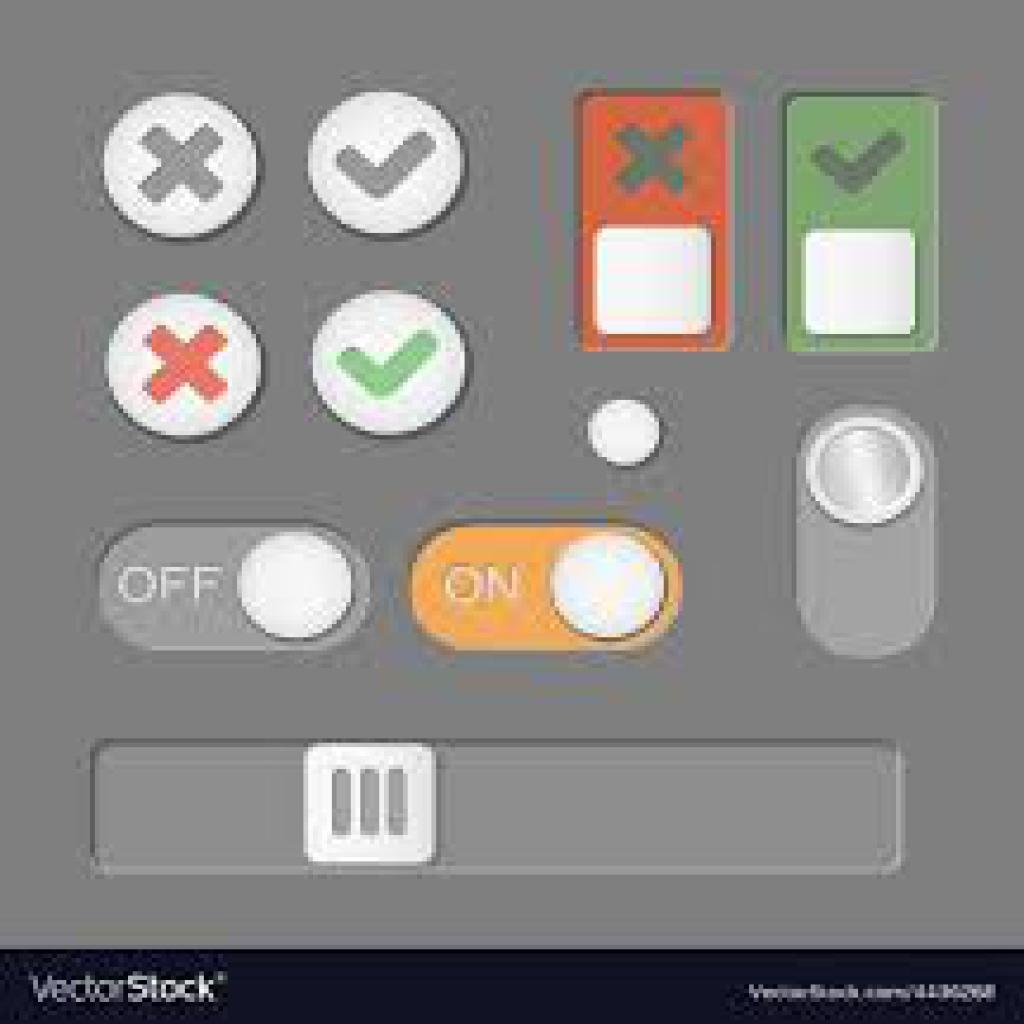checkbox: (313, 278, 476, 444), (103, 287, 268, 450), (307, 77, 469, 243), (101, 95, 266, 245)
slider: (94, 746, 905, 880)
switch: (544, 49, 755, 377), (768, 43, 966, 383), (407, 526, 690, 656), (802, 404, 941, 664), (98, 526, 373, 656)
